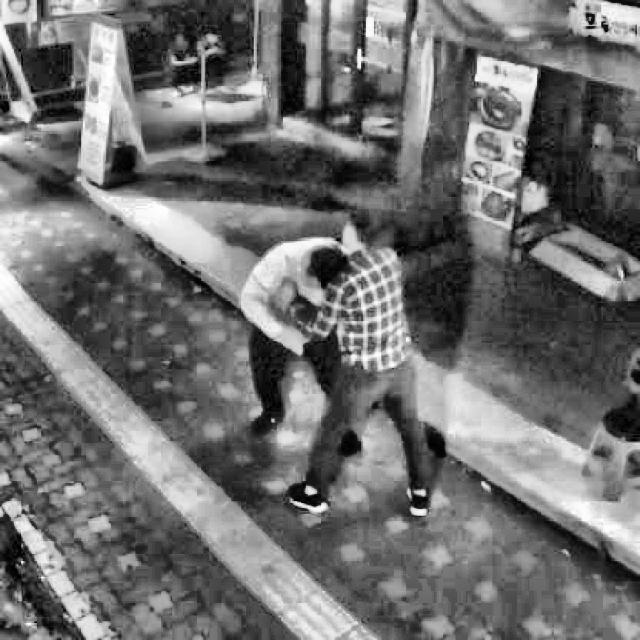robbery: (212, 204, 439, 538)
